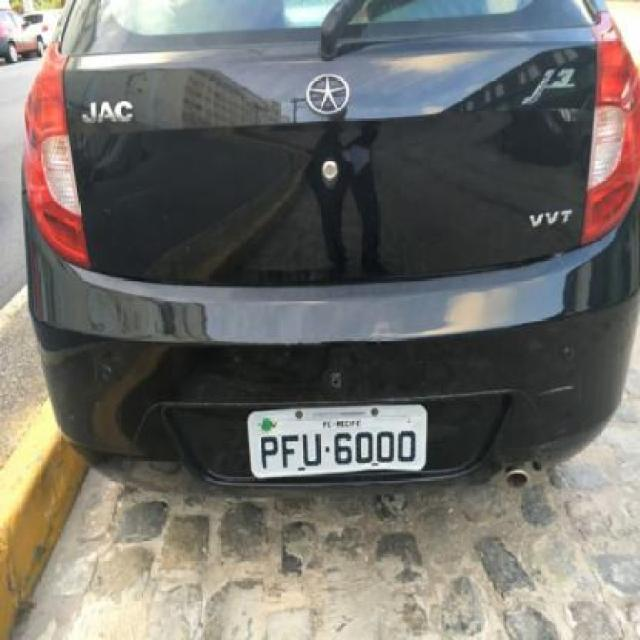old_plate: (241, 401, 436, 482)
